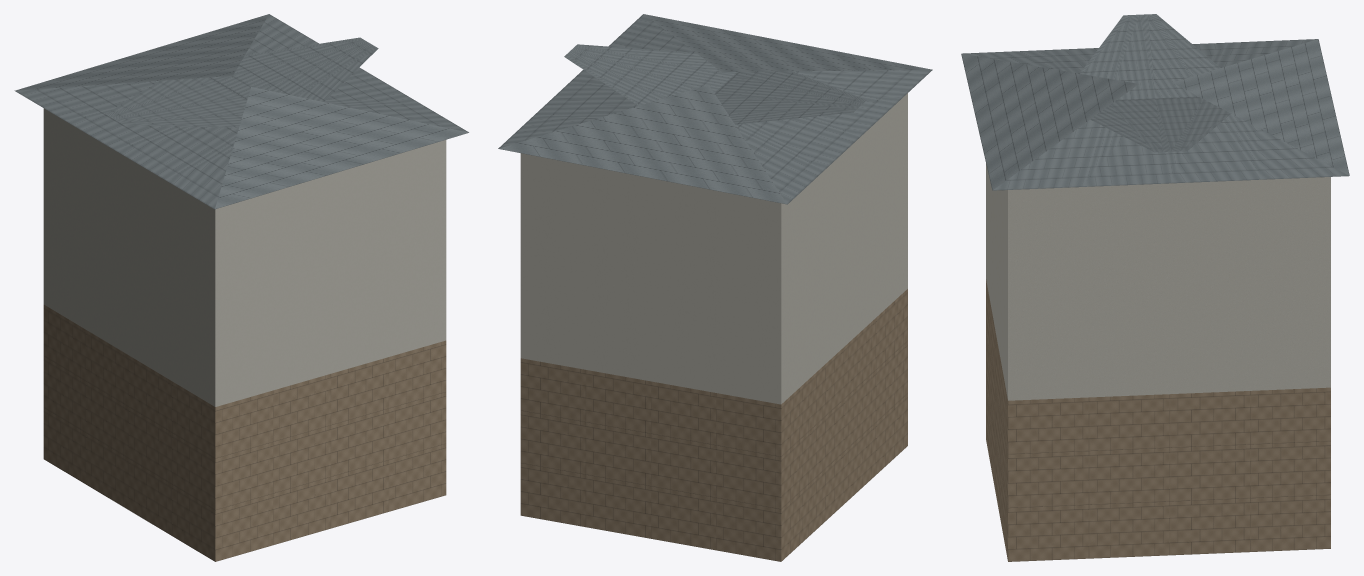
The model's file is bld_c32_-38_451.gltf.
3 renders of one model, left to right at view 1: azimuth 30°, elevation 25°; view 2: azimuth 150°, elevation 25°; view 3: azimuth 270°, elevation 25°, orthographic. The views are drawn at different scales.
Parts seen in each view (by area): view 1: bld_c32_-38_451; view 2: bld_c32_-38_451; view 3: bld_c32_-38_451.
Boxes of the visible parts, <box> form: bld_c32_-38_451: <box>14,14,468,561</box>; bld_c32_-38_451: <box>498,14,932,561</box>; bld_c32_-38_451: <box>961,14,1349,561</box>.
Size of the model in its own units: 10.29 by 13 by 11.15.
Materials: 3 (3 with a texture image).
